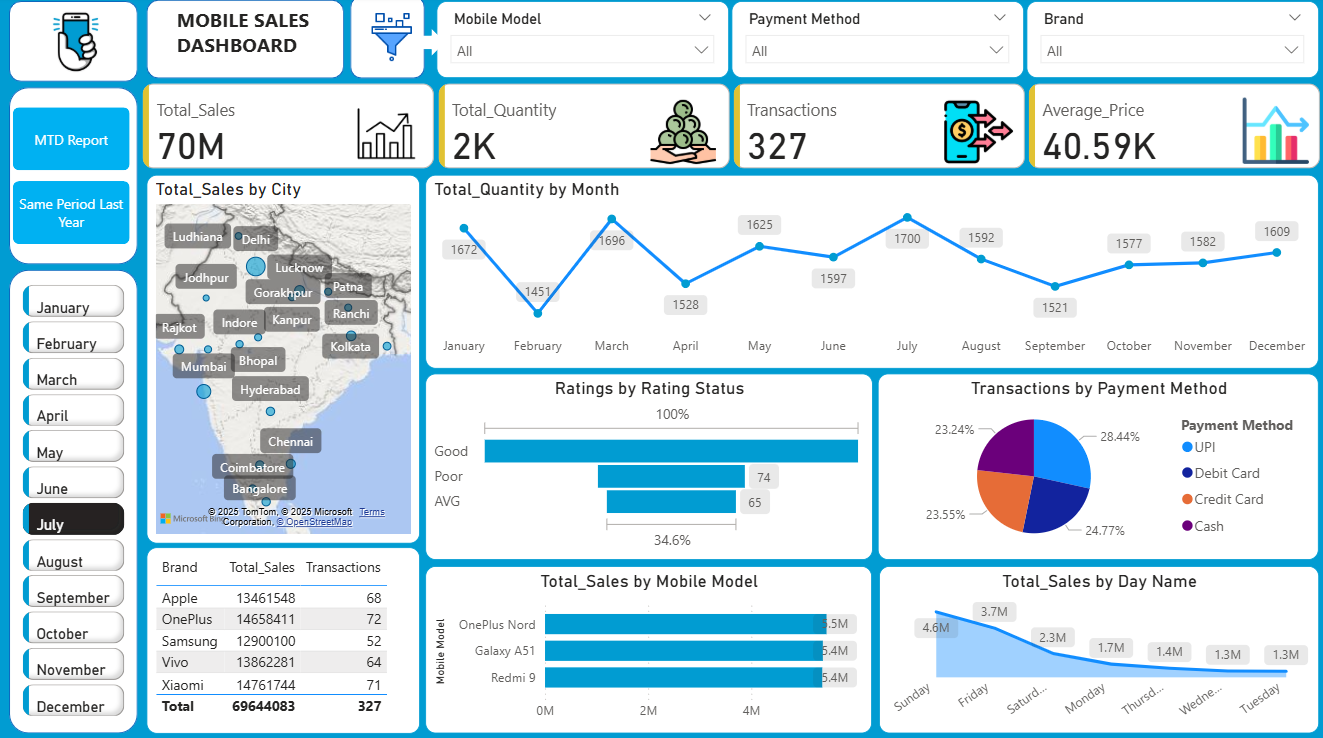

Layout of this report page (visuals, bound fields, positions):
{"tool":"powerbi","page":{"name":"Dashboard","canvas":[1280,720],"ordinal":0},"visuals":[{"type":"shape","box":[9.7,4.8,124.3,78],"z":0},{"type":"image","box":[27.7,2.4,92,83],"z":1000},{"type":"shape","box":[9.7,88.1,124.3,171],"z":2000},{"type":"shape","box":[9.7,264.2,124.3,447.6],"z":3000},{"type":"advancedSlicerVisual","fields":{"Values":["Custom_Calendar.Date.Variation.Date Hierarchy.Month"]},"box":[18.1,273.9,108.6,437.9],"z":4000},{"type":"cardVisual","fields":{"Data":["Sales_Data.Total_Sales","Sales_Data.Total_Quantity","Sales_Data.Transactions","Sales_Data.Average_Price"]},"box":[133.9,79.6,1146.1,92.9],"z":5000},{"type":"slicer","fields":{"Values":["Sales_Data.Mobile Model"]},"box":[422.3,4.8,282,74.8],"z":6000},{"type":"slicer","fields":{"Values":["Sales_Data.Payment Method"]},"box":[707,4.8,282,74.8],"z":7000},{"type":"slicer","fields":{"Values":["Sales_Data.Brand"]},"box":[991.7,4.8,282,74.8],"z":8000},{"type":"shape","box":[339,0,72,79.6],"z":9000},{"type":"image","box":[346.2,10.9,65.1,57.9],"z":10000},{"type":"shape","box":[401.7,31.4,29,26.5],"z":11000},{"type":"shape","box":[142.4,3.6,190.6,76],"z":12000},{"type":"textbox","box":[166.5,4.8,143.6,68.8],"z":13000},{"type":"map","fields":{"Category":["Sales_Data.City"],"Size":["Sales_Data.Total_Sales"]},"box":[142.4,172.5,264.2,355.9],"z":14000},{"type":"lineChart","fields":{"Category":["Custom_Calendar.Date.Variation.Date Hierarchy.Month"],"Y":["Sales_Data.Total_Quantity"]},"box":[411.4,172.5,862.6,187],"z":15000},{"type":"funnel","title":"Ratings by Rating Status","fields":{"Y":["CountNonNull(Sales_Data.Customer Ratings)"],"Category":["Sales_Data.Rating Status"]},"box":[411.4,364.3,431.9,179.8],"z":16000},{"type":"pieChart","fields":{"Y":["Sales_Data.Transactions"],"Category":["Sales_Data.Payment Method"]},"box":[848.1,364.3,425.9,179.8],"z":17000},{"type":"clusteredBarChart","fields":{"Y":["Sales_Data.Total_Sales"],"Category":["Sales_Data.Mobile Model"]},"box":[411.7,550.3,430.9,161.9],"z":18000},{"type":"areaChart","fields":{"Y":["Sales_Data.Total_Sales"],"Category":["Custom_Calendar.Day Name"]},"box":[849.3,550.1,424.7,161.7],"z":19000},{"type":"tableEx","fields":{"Values":["Sales_Data.Brand","Sales_Data.Total_Sales","Sales_Data.Transactions"]},"box":[142.4,532,264.2,179.8],"z":20000},{"type":"pageNavigator","box":[13.3,107.4,113.4,133.9],"z":20001}]}

Visuals, with their boxes in screenshot pixels (x1, y1, x2, y2), scaled from the page's 1280x720 canvas onto the 1323x738 screenshot:
shape: [10,5,139,85]
image: [29,2,124,88]
shape: [10,90,139,266]
shape: [10,271,139,730]
advancedSlicerVisual - Custom_Calendar.Date.Variation.Date Hierarchy.Month: [19,281,131,730]
cardVisual - Sales_Data.Total_Sales x Sales_Data.Total_Quantity: [138,82,1322,177]
slicer - Sales_Data.Mobile Model: [436,5,728,82]
slicer - Sales_Data.Payment Method: [731,5,1022,82]
slicer - Sales_Data.Brand: [1025,5,1316,82]
shape: [350,0,425,82]
image: [358,11,425,71]
shape: [415,32,445,59]
shape: [147,4,344,82]
textbox: [172,5,321,75]
map - Sales_Data.City x Sales_Data.Total_Sales: [147,177,420,542]
lineChart - Custom_Calendar.Date.Variation.Date Hierarchy.Month x Sales_Data.Total_Quantity: [425,177,1317,368]
"Ratings by Rating Status" funnel: [425,373,872,558]
pieChart - Sales_Data.Transactions x Sales_Data.Payment Method: [877,373,1317,558]
clusteredBarChart - Sales_Data.Total_Sales x Sales_Data.Mobile Model: [426,564,871,730]
areaChart - Sales_Data.Total_Sales x Custom_Calendar.Day Name: [878,564,1317,730]
tableEx - Sales_Data.Brand x Sales_Data.Total_Sales: [147,545,420,730]
pageNavigator: [14,110,131,247]
